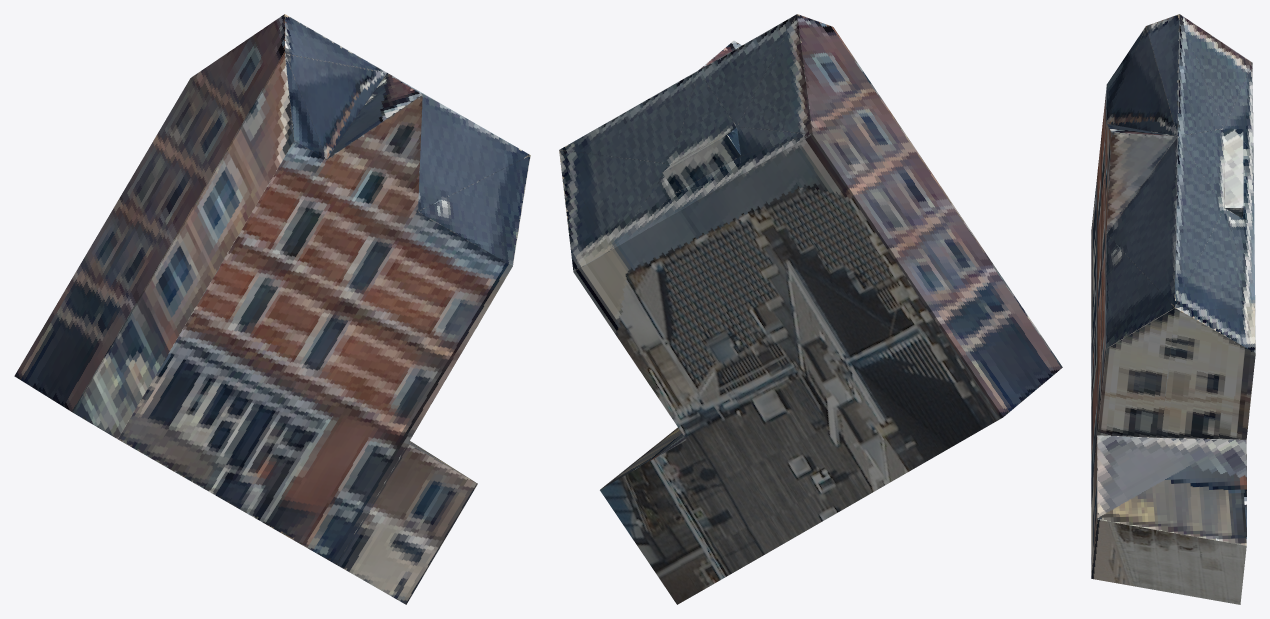
3 renders of one model, left to right at view 1: azimuth 30°, elevation 25°; view 2: azimuth 150°, elevation 25°; view 3: azimuth 270°, elevation 25°, orthographic. The views are drawn at different scales.
Parts seen in each view (by area): view 1: BAG_0599100000671589 (×5); view 2: BAG_0599100000671589 (×6); view 3: BAG_0599100000671589 (×6).
Part boxes in pixels (x1=…): BAG_0599100000671589 (×5): x1=14, y1=14, x2=530, y2=604; BAG_0599100000671589 (×6): x1=559, y1=14, x2=1062, y2=604; BAG_0599100000671589 (×6): x1=1091, y1=14, x2=1255, y2=604.
Bounding box in the file's own units: 21.39 × 25.15 × 6.81.
7 materials, 6 textured.
